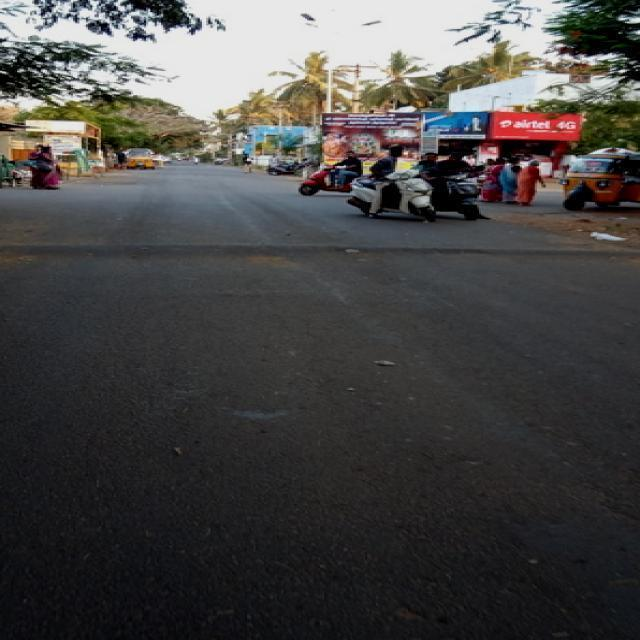NonMarked Bump: (10, 227, 615, 268)
